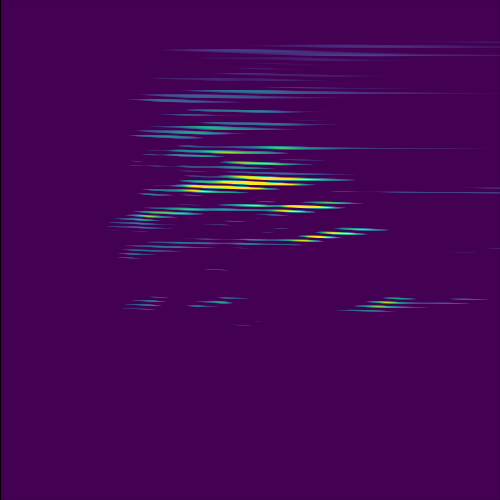semblance: (170, 173, 338, 195), (292, 222, 385, 247), (355, 288, 428, 319), (269, 197, 355, 218)
